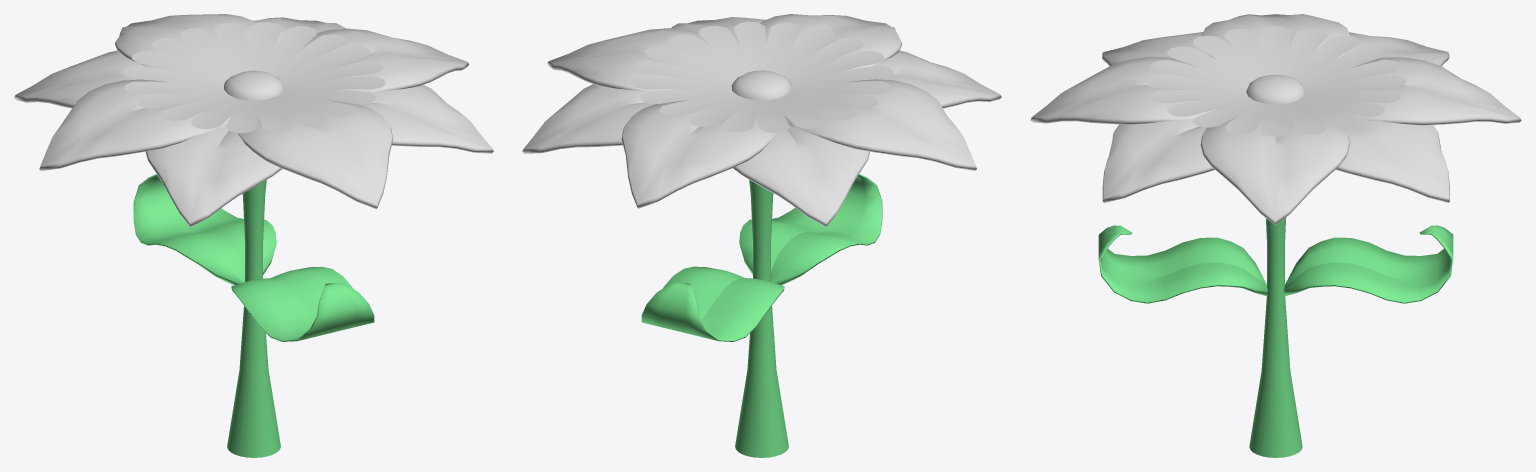
The model's file is FlowerPlatform.fbx.
3 views of the same model, side by side, from view 1: azimuth 30°, elevation 25°; view 2: azimuth 150°, elevation 25°; view 3: azimuth 270°, elevation 25° (orthographic).
Parts seen in each view (by area): view 1: FullFlower; view 2: FullFlower; view 3: FullFlower.
Part boxes in pixels (<box>): FullFlower: <box>14,14,493,457</box>; FullFlower: <box>522,14,1001,457</box>; FullFlower: <box>1030,14,1521,457</box>.
Size of the model in its own units: 957 by 787 by 957.
